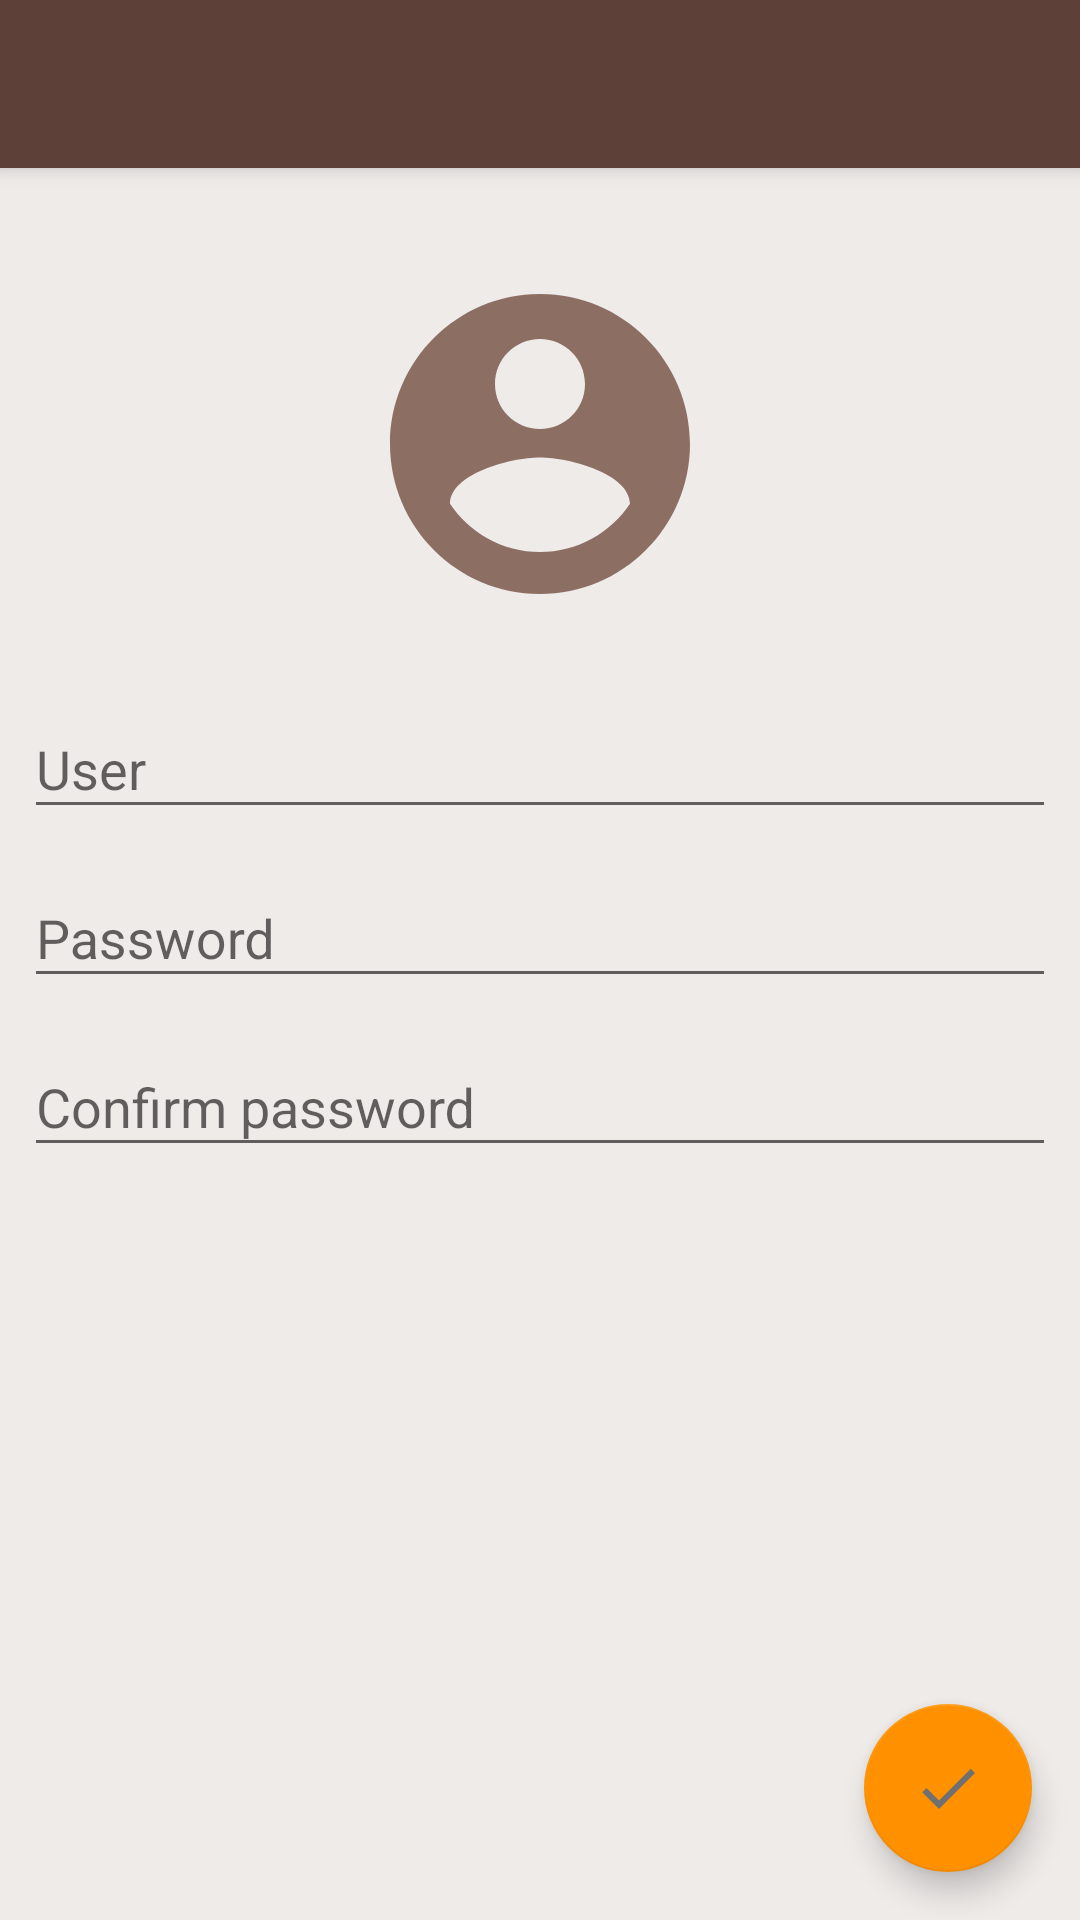

Point at icon controls on the screen. Image size 1080×1920, points as (x,y).
accont: (540,444)
check: (948,1788)
